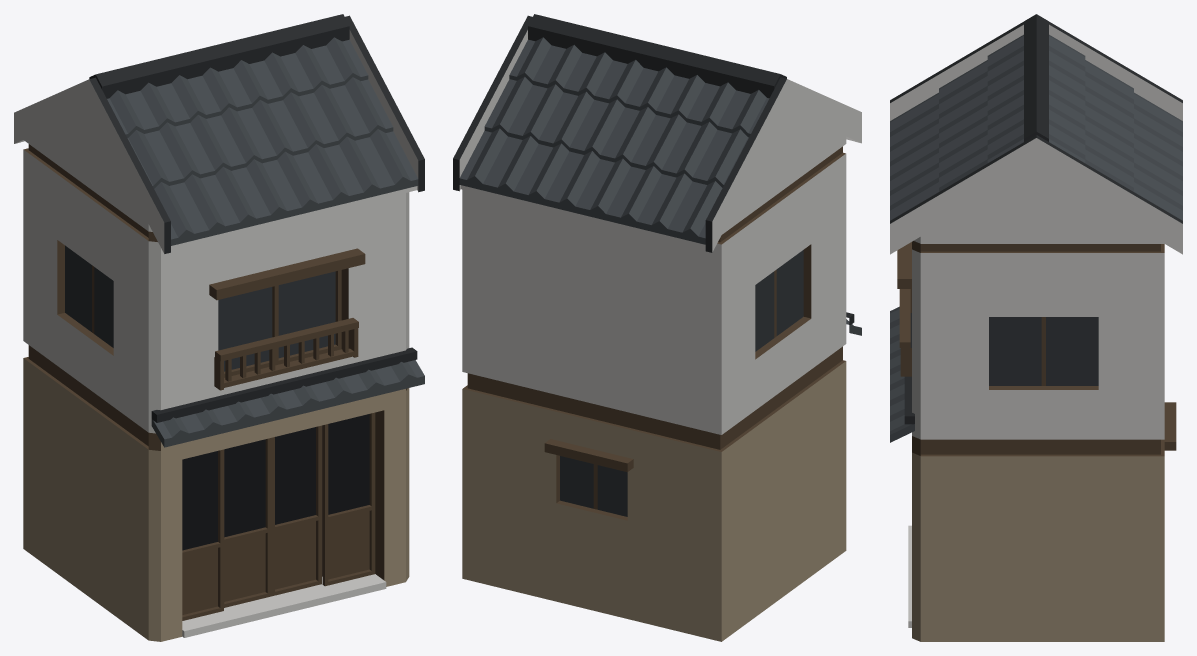
The model's file is two-storey-shophouse-183790.glb.
3 renders of one model, left to right at view 1: azimuth 30°, elevation 25°; view 2: azimuth 150°, elevation 25°; view 3: azimuth 270°, elevation 25°, orthographic. The views are drawn at different scales.
Parts seen in each view (by area): view 1: shophouse-shell, shop-screen-r-leaf, shop-screen-l-leaf; view 2: shophouse-shell; view 3: shophouse-shell.
Part boxes in pixels (x1=…): shophouse-shell: x1=14, y1=14, x2=424, y2=641; shop-screen-r-leaf: x1=271, y1=425, x2=321, y2=596; shop-screen-l-leaf: x1=224, y1=438, x2=271, y2=607; shophouse-shell: x1=453, y1=14, x2=861, y2=641; shophouse-shell: x1=890, y1=14, x2=1182, y2=641.
Bounding box in the file's own units: 4 × 7.65 × 4.
